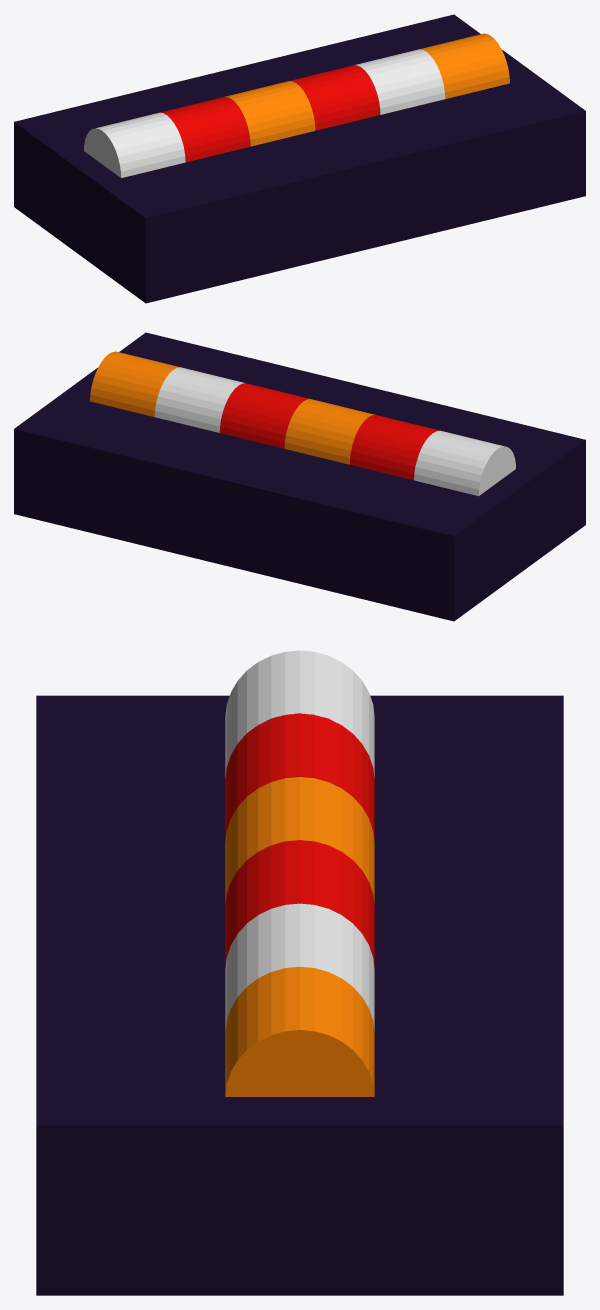
The model's file is Fuse2.fbx.
The picture shows the model from 3 angles, top to bottom: view 1: azimuth 30°, elevation 25°; view 2: azimuth 150°, elevation 25°; view 3: azimuth 270°, elevation 25°; orthographic projection. The views are drawn at different scales.
Parts seen in each view (by area): view 1: Cube, Cylinder, Cylinder.002, Cylinder.004, Cylinder.003, Cylinder.005, Cylinder.001; view 2: Cube, Cylinder, Cylinder.002, Cylinder.004, Cylinder.003, Cylinder.005, Cylinder.001; view 3: Cube, Cylinder.005, Cylinder.003, Cylinder.001, Cylinder.002, Cylinder.004, Cylinder.
Part boxes in pixels (<box>): Cube: <box>14,14,585,303</box>; Cylinder: <box>84,112,185,178</box>; Cylinder.002: <box>224,81,315,146</box>; Cylinder.004: <box>355,49,445,114</box>; Cylinder.003: <box>290,65,380,130</box>; Cylinder.005: <box>420,33,509,98</box>; Cylinder.001: <box>160,97,250,162</box>; Cube: <box>14,332,585,621</box>; Cylinder: <box>414,430,515,496</box>; Cylinder.002: <box>284,399,375,464</box>; Cylinder.004: <box>154,367,244,432</box>; Cylinder.003: <box>219,383,309,448</box>; Cylinder.005: <box>90,351,179,416</box>; Cylinder.001: <box>349,415,439,480</box>; Cube: <box>36,695,563,1295</box>; Cylinder.005: <box>225,966,374,1096</box>; Cylinder.003: <box>225,840,374,968</box>; Cylinder.001: <box>225,713,374,841</box>; Cylinder.002: <box>225,777,374,904</box>; Cylinder.004: <box>225,903,374,1031</box>; Cylinder: <box>225,650,374,778</box>.
Bounding box in the file's own units: 185 × 47.65 × 95.87.
